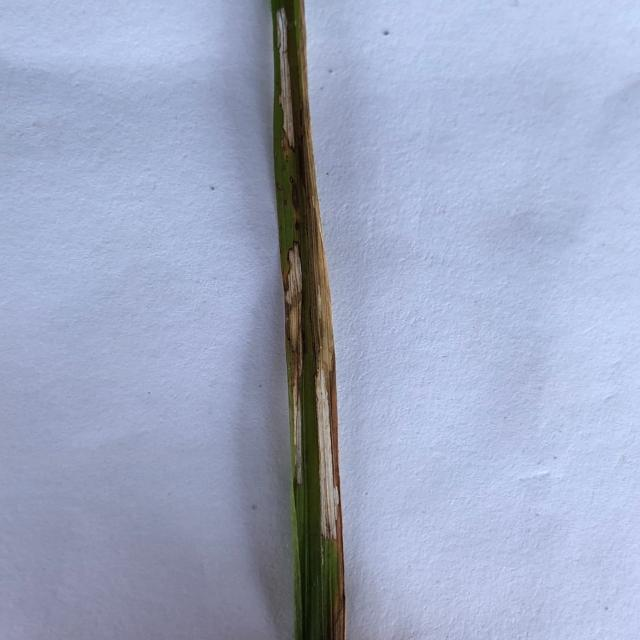Leaf Blight: (296, 0, 345, 640), (283, 240, 302, 485), (276, 7, 293, 150)
